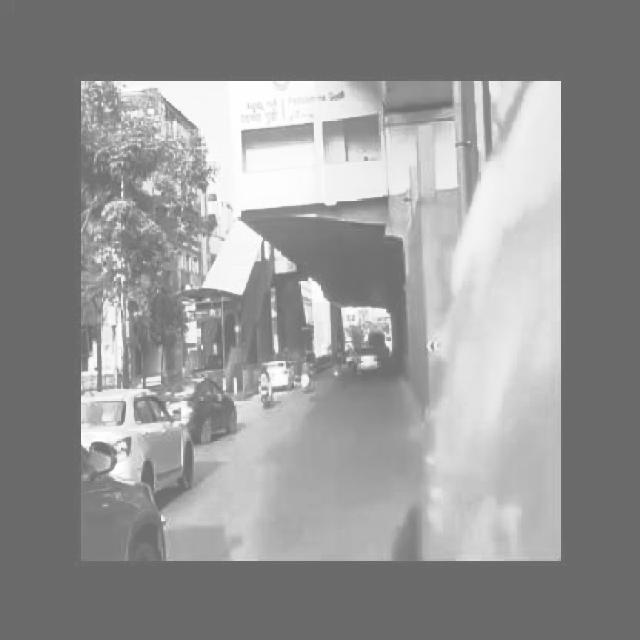Car: (83, 384, 197, 500), (82, 451, 168, 568), (182, 372, 238, 445), (357, 339, 384, 386), (268, 355, 300, 390)
